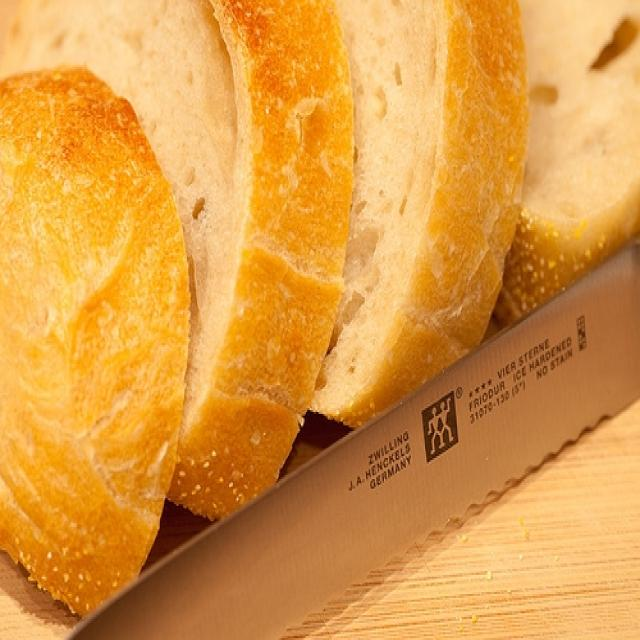面包点心: (4, 2, 630, 628)
